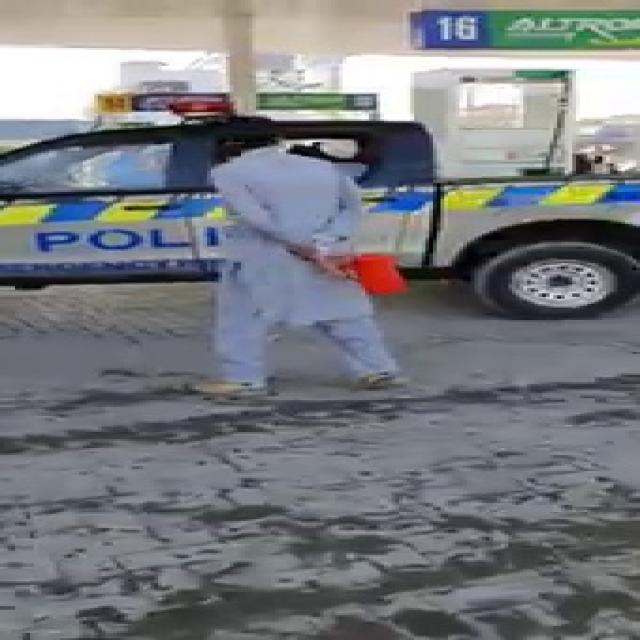police: (0, 66, 640, 281)
